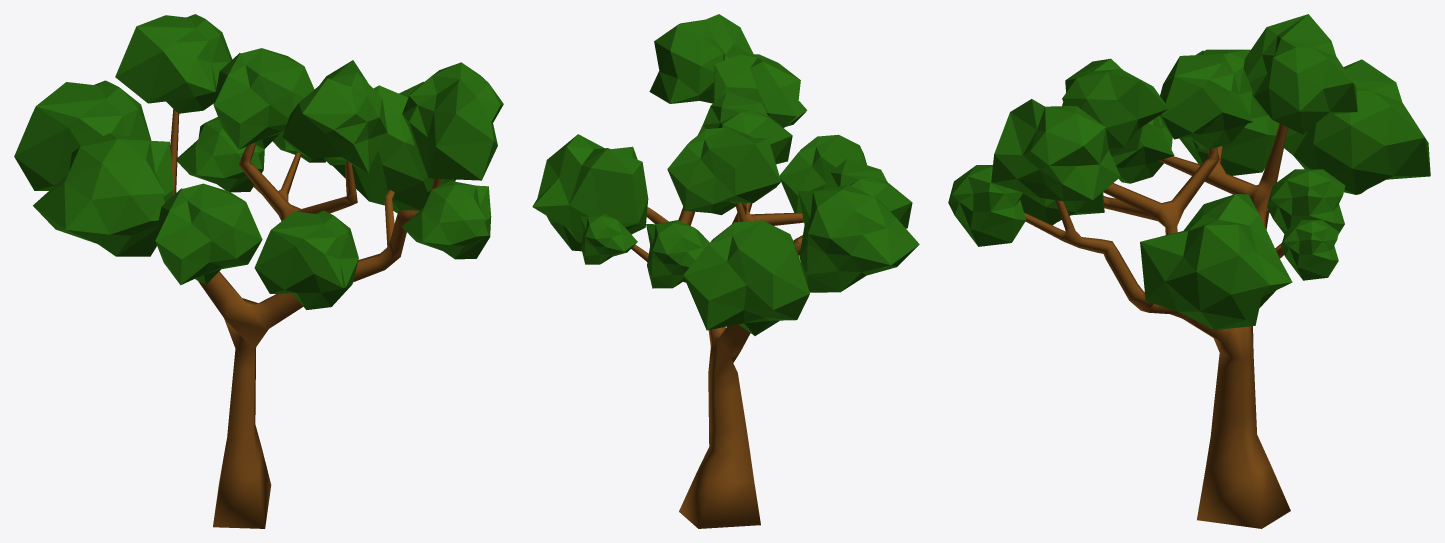
File: Tree_01.fbx
The picture shows the model from 3 angles, left to right: view 1: azimuth 30°, elevation 25°; view 2: azimuth 150°, elevation 25°; view 3: azimuth 270°, elevation 25°; orthographic projection. The views are drawn at different scales.
Parts seen in each view (by area): view 1: Tree_01; view 2: Tree_01; view 3: Tree_01.
Boxes of the visible parts, x1,y1,x2,y2 form: Tree_01: (14, 14, 503, 528); Tree_01: (532, 14, 919, 528); Tree_01: (948, 14, 1430, 528).
Size of the model in its own units: 537 by 600 by 554.
